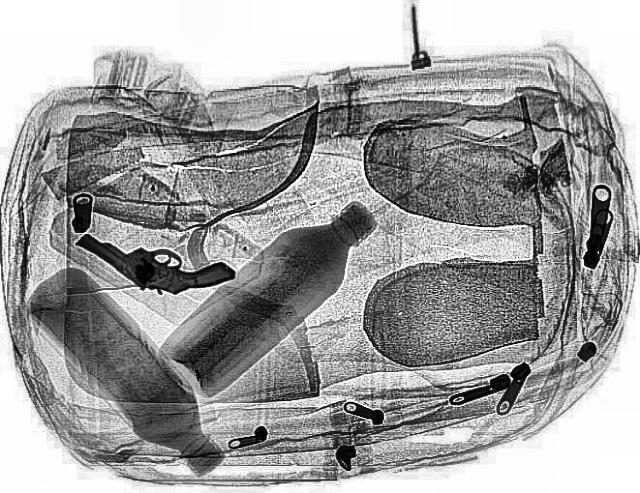Gun: (61, 226, 238, 310)
